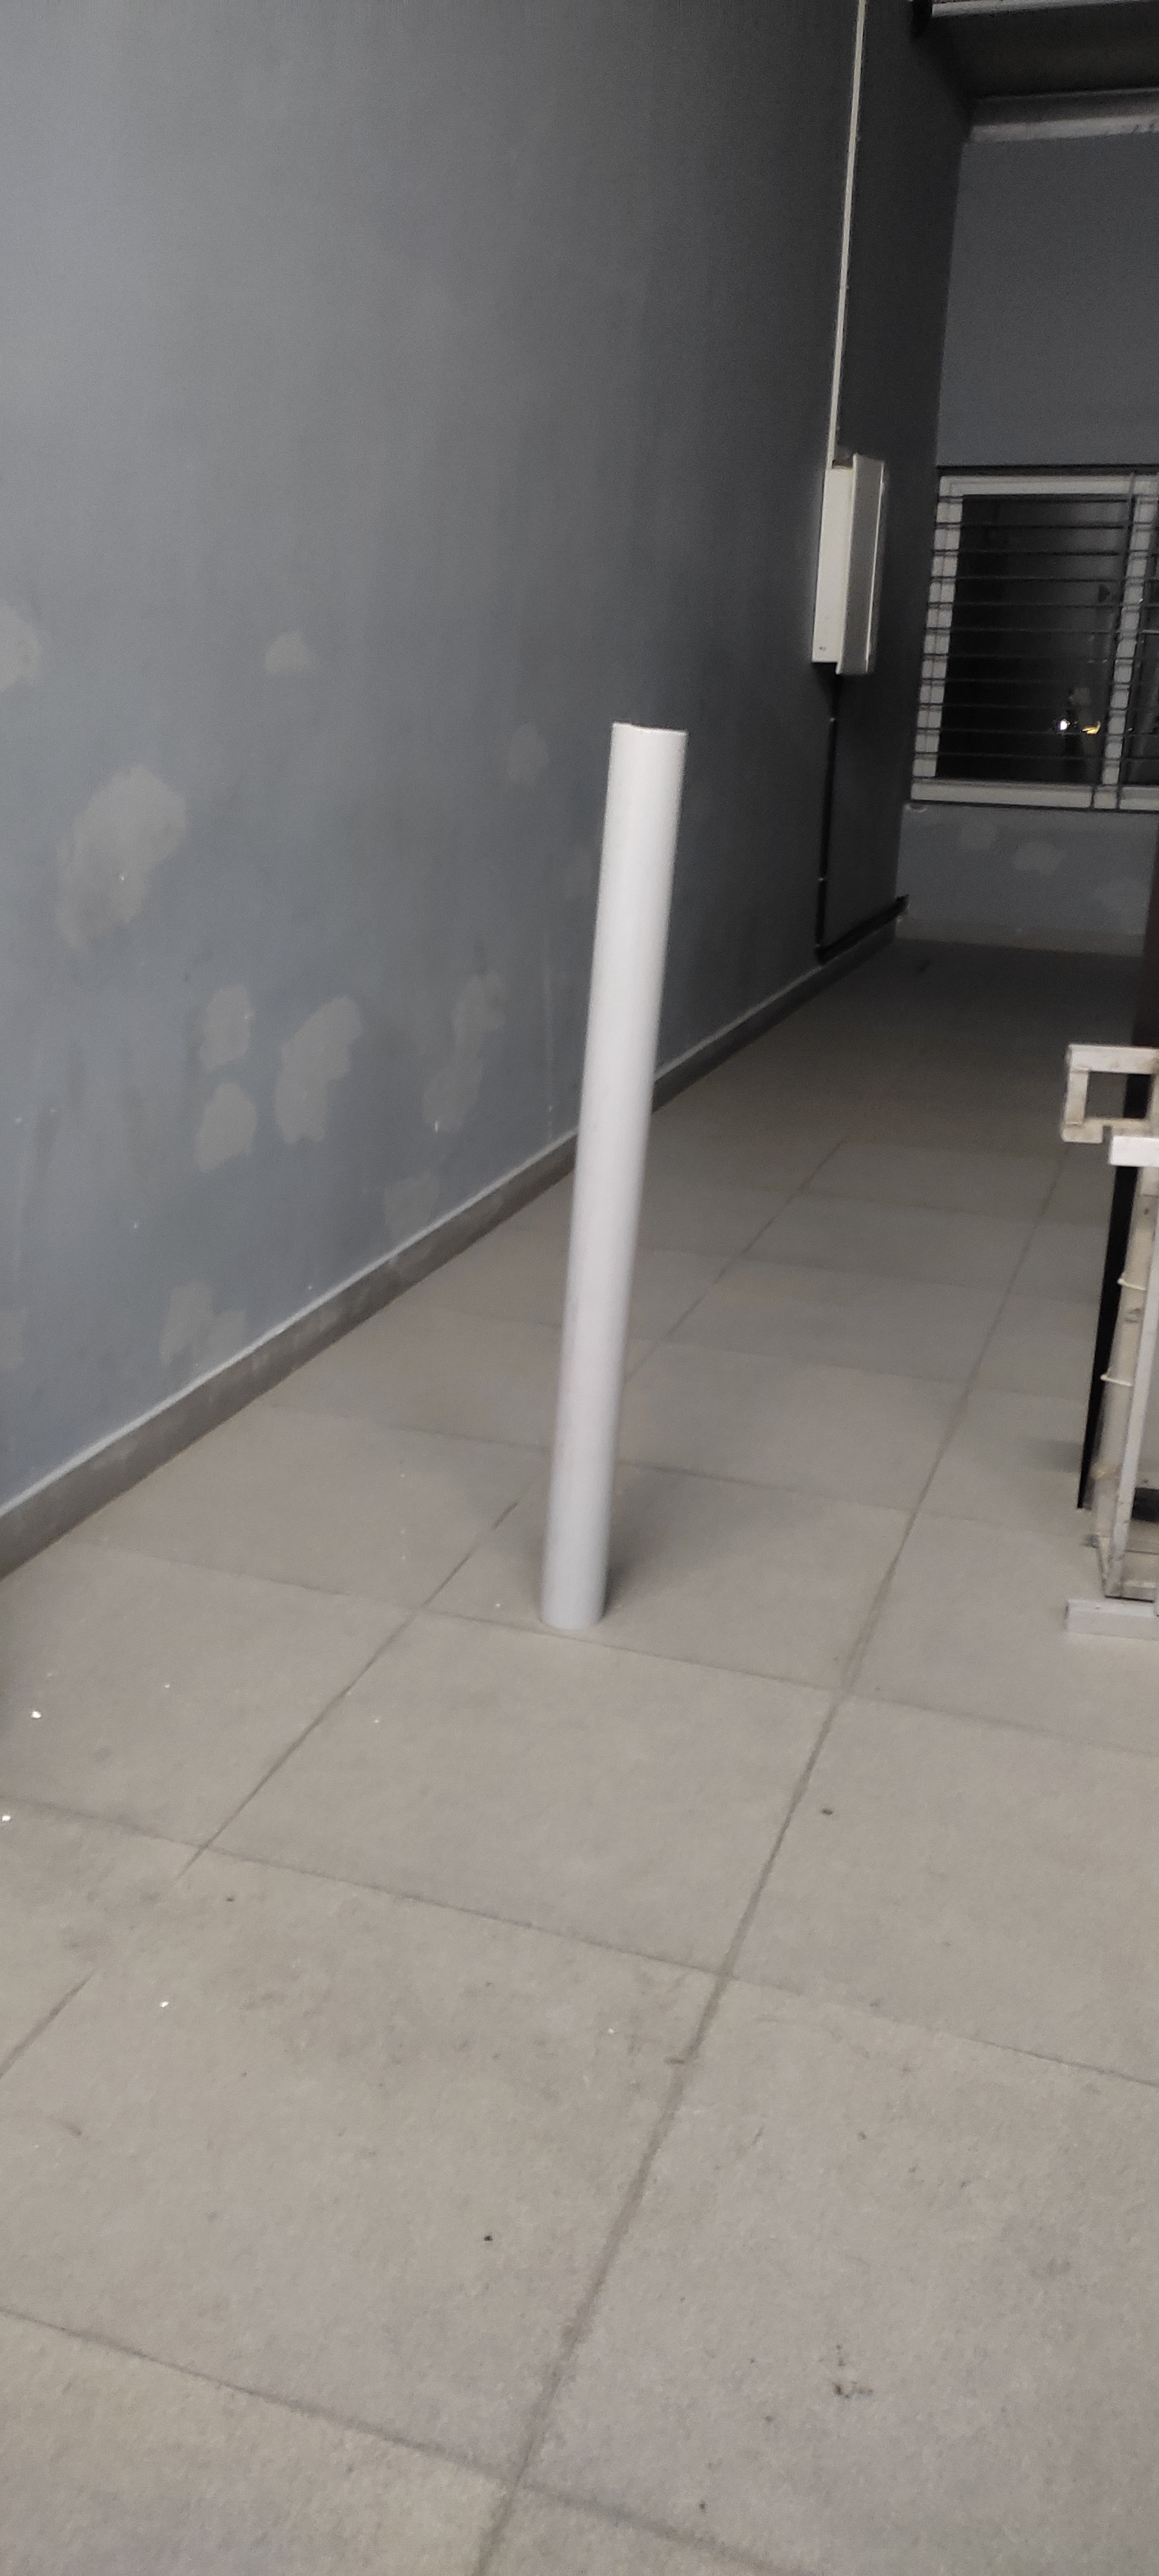pole: (497, 411, 681, 1525)
